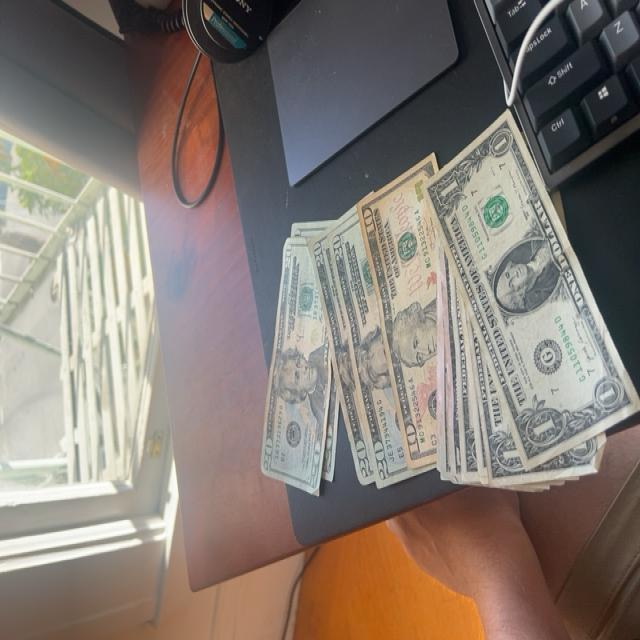five: (452, 253, 544, 487), (441, 241, 453, 482)
one: (421, 109, 640, 472), (452, 276, 580, 483), (457, 282, 566, 487), (470, 323, 607, 481), (459, 293, 551, 490), (466, 305, 566, 482)
ten: (356, 152, 440, 470)
twenty: (328, 213, 438, 491), (306, 190, 375, 487), (260, 237, 333, 498), (291, 220, 339, 483)
